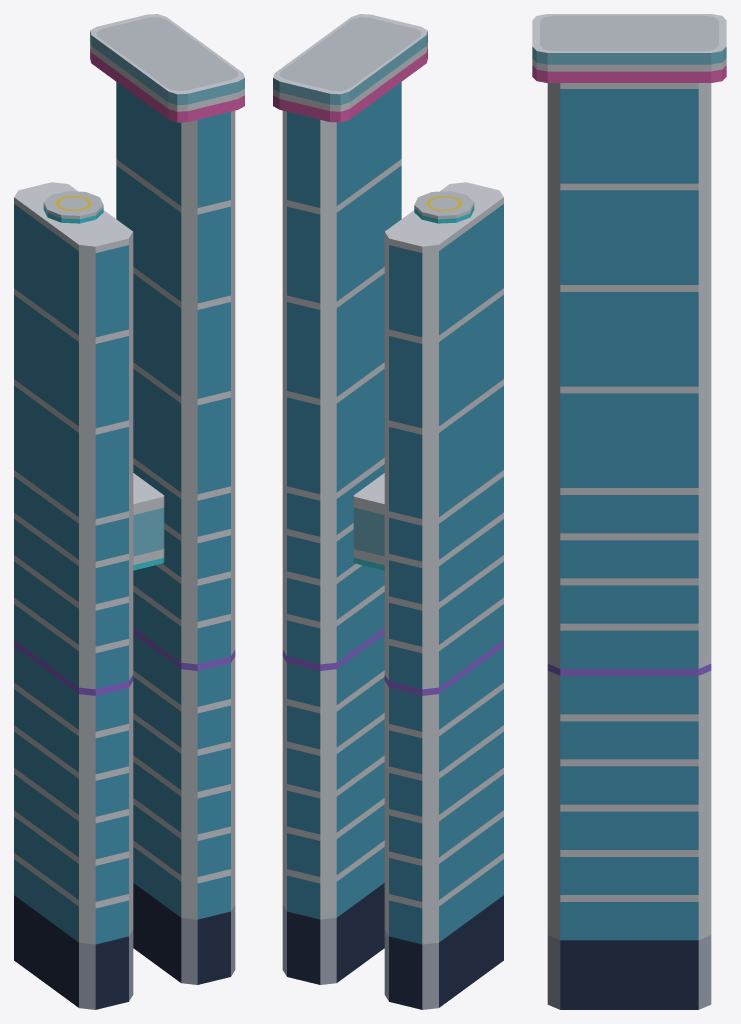
File: city-tower-6.glb
3 renders of one model, left to right at view 1: azimuth 30°, elevation 25°; view 2: azimuth 150°, elevation 25°; view 3: azimuth 270°, elevation 25°, orthographic. The views are drawn at different scales.
Parts seen in each view (by area): view 1: CityTower6; view 2: CityTower6; view 3: CityTower6.
Boxes of the visible parts, left/top/right/bottom form: CityTower6: left=14, top=14, right=244, bottom=1009; CityTower6: left=273, top=14, right=503, bottom=1009; CityTower6: left=532, top=14, right=726, bottom=1009.
Size of the model in its own units: 15.2 by 82.6 by 15.2.
